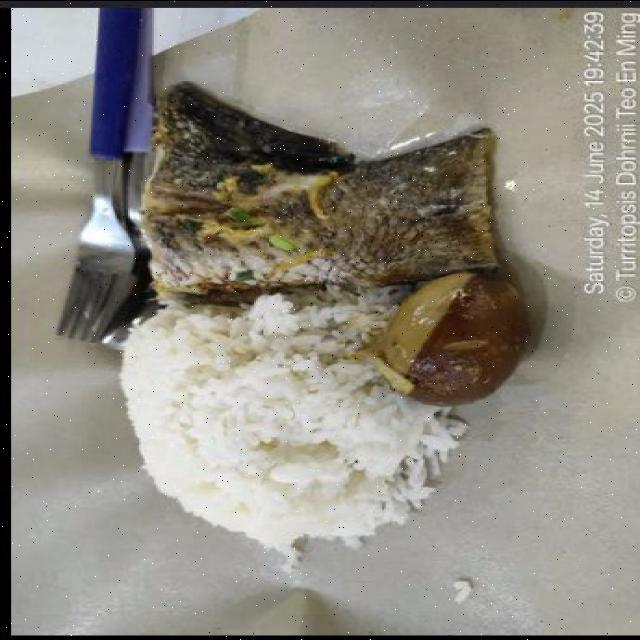Egg: (371, 272, 527, 403)
Fish: (139, 86, 497, 309)
Rice: (121, 288, 466, 566)
